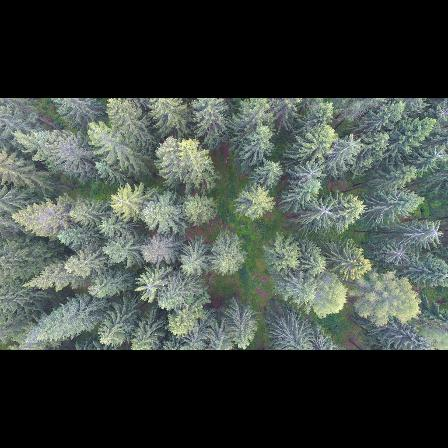Sick: (297, 156, 330, 183), (312, 196, 338, 224), (420, 221, 446, 246), (385, 241, 409, 261), (434, 101, 448, 124)
